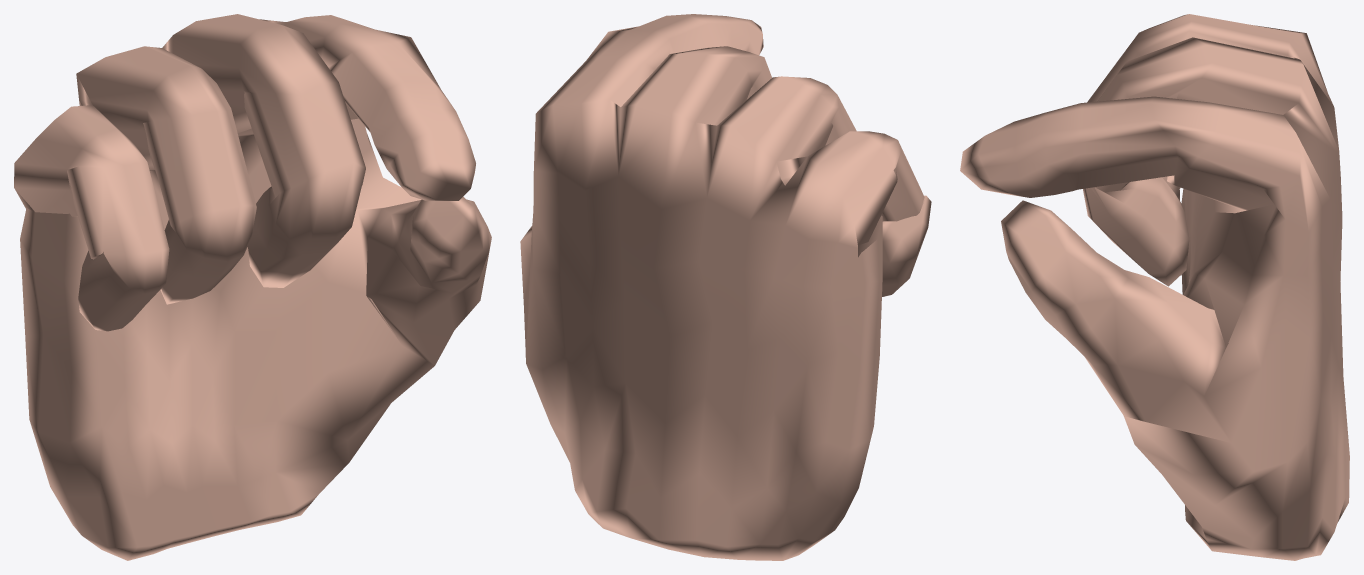
The model's file is MAO_PASSARINHO_ABERTA.obj.
3 renders of one model, left to right at view 1: azimuth 30°, elevation 25°; view 2: azimuth 150°, elevation 25°; view 3: azimuth 270°, elevation 25°, orthographic. The views are drawn at different scales.
Parts seen in each view (by area): view 1: mao_dir:mao_dir; view 2: mao_dir:mao_dir; view 3: mao_dir:mao_dir.
Boxes of the visible parts, x1,y1,x2,y2 form: mao_dir:mao_dir: (14, 14, 491, 560); mao_dir:mao_dir: (520, 14, 931, 560); mao_dir:mao_dir: (960, 14, 1349, 560).
Bounding box in the file's own units: 136 × 156 × 113.
